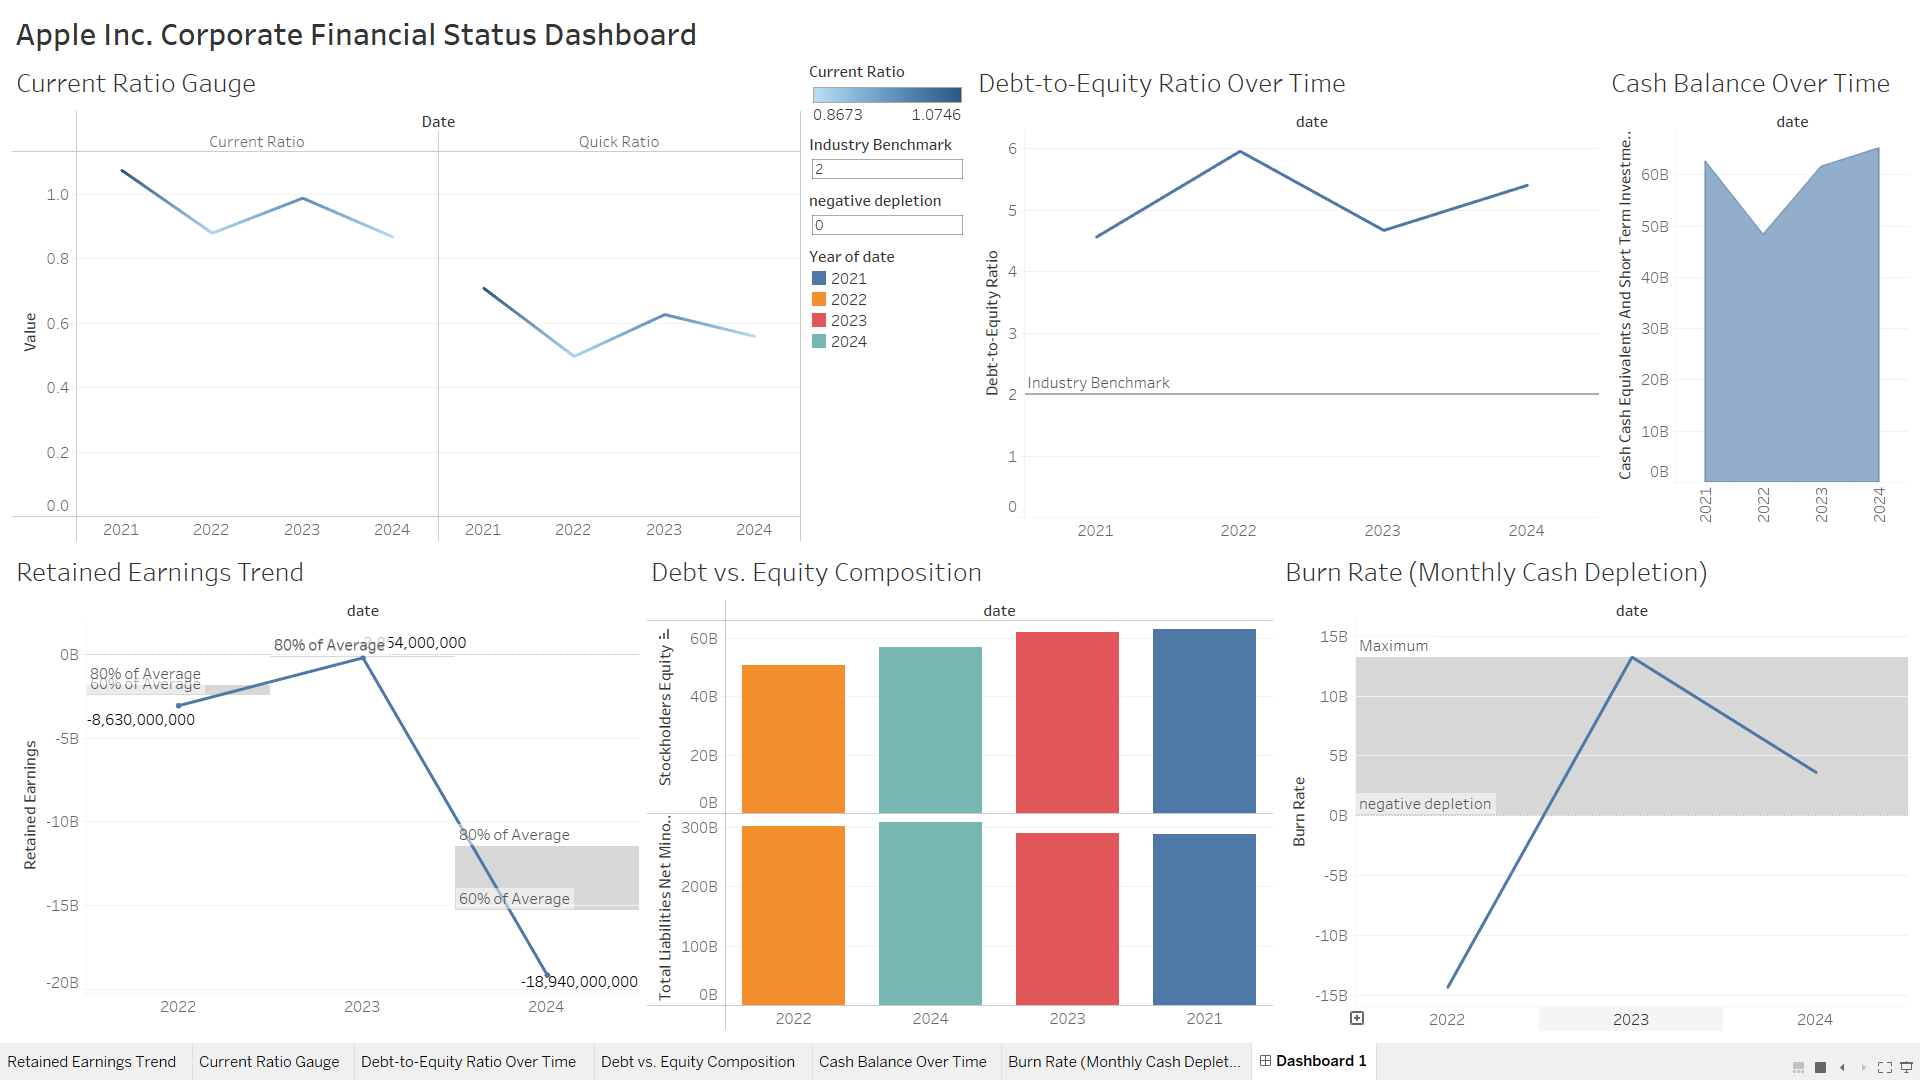

This screenshot's page, from the dashboard's own definition file:
{"tool":"tableau","page":{"name":"Dashboard 1","canvas":[1000,1000],"units":"permille","ordinal":0},"visuals":[{"type":"title","box":[4.8,9.4,990.3,57.6]},{"type":"worksheet","title":"Current Ratio","mark":"Automatic","cols":["Date"],"box":[4.8,67,401.7,461.7]},{"type":"legend","title":"Current Ratio","param":"[federated.1tow2b604oym1613080tp0zqe07t].[usr:Calculation_1337850619927920643:qk","box":[406.6,67,83.3,85.8]},{"type":"worksheet","title":"Debt-to-Equity Ratio Over Time","mark":"Automatic","rows":["Calculation_1337850619928088580"],"cols":["Date (apple_financial_data_2020_2024.csv)"],"box":[489.8,67,318.9,461.7]},{"type":"worksheet","title":"Cash Balance Over Time","mark":"Area","rows":["Cash Cash Equivalents And Short Term Investments"],"cols":["Date (apple_financial_data_2020_2024.csv)"],"box":[808.7,67,186.5,461.7]},{"type":"parameter","param":"[Parameters].[Parameter 1]","box":[406.6,152.8,83.3,65.8]},{"type":"parameter","param":"[Parameters].[Parameter 2]","box":[406.6,218.6,83.3,65.8]},{"type":"legend","title":"Debt vs. Equity Composition","param":"[federated.1tow2b604oym1613080tp0zqe07t].[yr:Date (apple_financial_data_2020_202","box":[406.6,284.4,83.3,134]},{"type":"worksheet","title":"Retained Earnings Trend","mark":"Line","rows":["Retained Earnings"],"cols":["Date (apple_financial_data_2020_2024.csv)"],"box":[4.8,528.6,330.1,461.9]},{"type":"worksheet","title":"Debt vs. Equity Composition","mark":"Bar","rows":["Stockholders Equity","Total Liabilities Net Minority Interest"],"cols":["Date (apple_financial_data_2020_2024.csv)"],"box":[334.9,528.6,330.1,461.9]},{"type":"worksheet","title":"Burn Rate (Monthly Cash Depletion)","mark":"Automatic","rows":["Calculation_1337850619928358917"],"cols":["Date (apple_financial_data_2020_2024.csv)"],"box":[665,528.6,330.2,461.9]}]}

Visuals, with their boxes on the dashboard's canvas, which has no fixed pixel size, in thousandths of its width and height (x1, y1, x2, y2). These are canvas units, not pixel positions in the 1920x1080 screenshot, which may show the page scaled, cropped or inside an application window:
title: left=5, top=9, right=995, bottom=67
"Current Ratio" worksheet: left=5, top=67, right=406, bottom=529
"Current Ratio" legend: left=407, top=67, right=490, bottom=153
"Debt-to-Equity Ratio Over Time" worksheet: left=490, top=67, right=809, bottom=529
"Cash Balance Over Time" worksheet (Area marks): left=809, top=67, right=995, bottom=529
parameter: left=407, top=153, right=490, bottom=219
parameter: left=407, top=219, right=490, bottom=284
"Debt vs. Equity Composition" legend: left=407, top=284, right=490, bottom=418
"Retained Earnings Trend" worksheet (Line marks): left=5, top=529, right=335, bottom=990
"Debt vs. Equity Composition" worksheet (Bar marks): left=335, top=529, right=665, bottom=990
"Burn Rate (Monthly Cash Depletion)" worksheet: left=665, top=529, right=995, bottom=990
